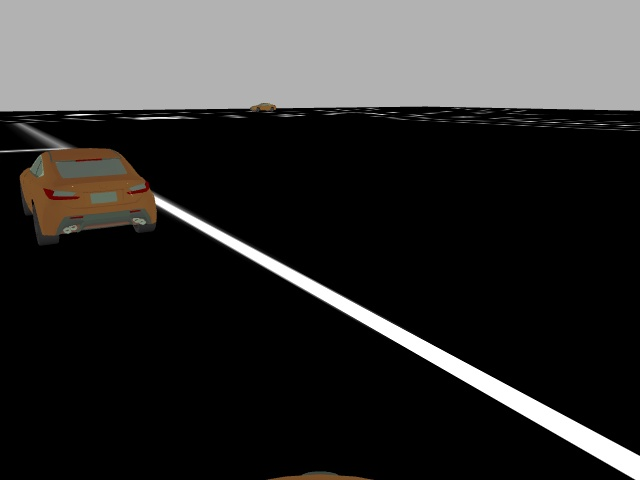obstacle_car: (14, 145, 176, 251)
